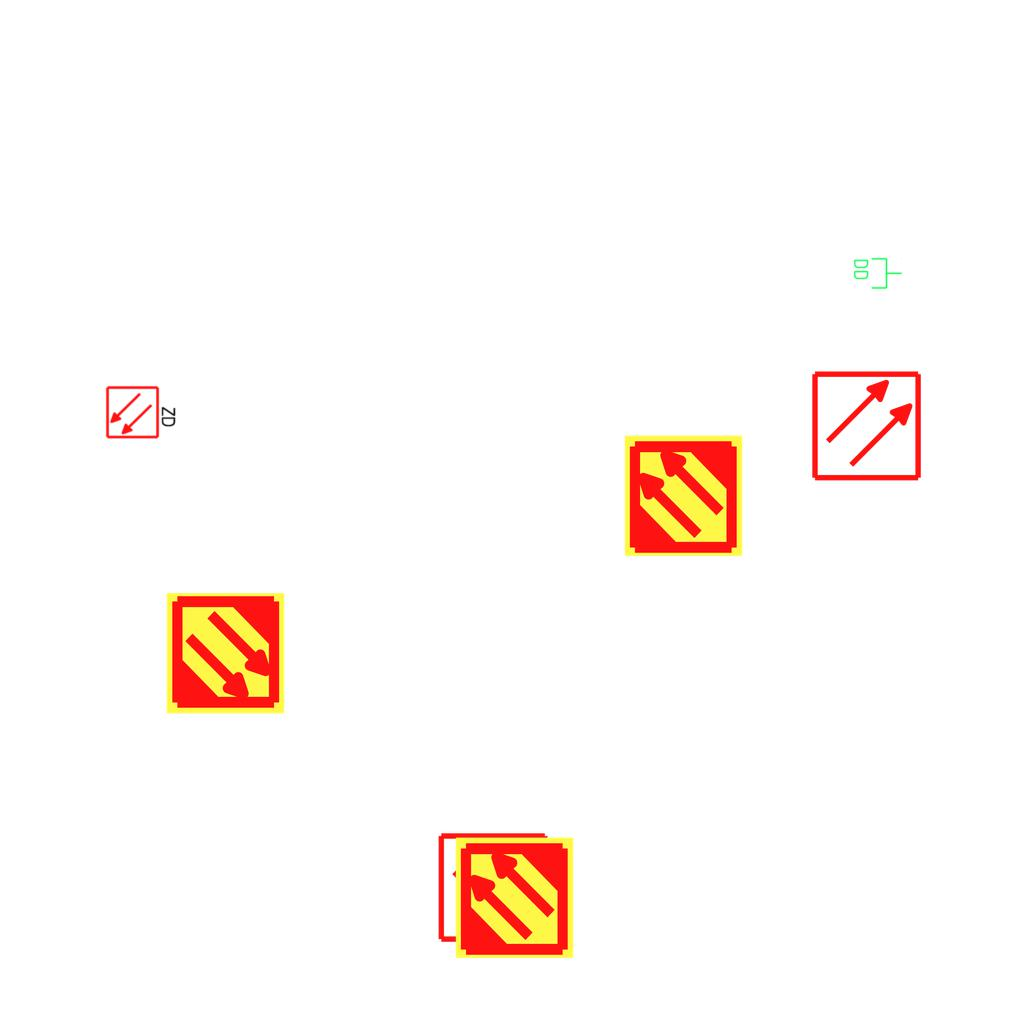ASR_Ansaugrauchmelder: (621, 433, 746, 558), (163, 591, 288, 716), (452, 835, 577, 960)
Datenanschluss_zweifach: (852, 256, 903, 290)
RMO_Rauchmelder_optischer: (810, 369, 923, 482), (437, 831, 550, 944)
ZD_Melder_in_Zwischendecke_mit_Revisionsoeffnung_mind_40_x_40_cm: (105, 383, 179, 440)
